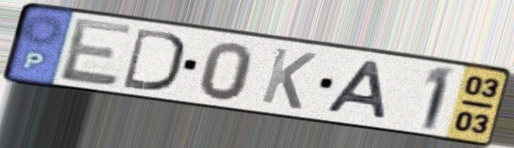0: (194, 39, 256, 104)
1: (422, 65, 458, 133)
A: (323, 59, 390, 123)
D: (120, 25, 187, 94)
E: (57, 15, 136, 89)
K: (257, 45, 320, 113)
